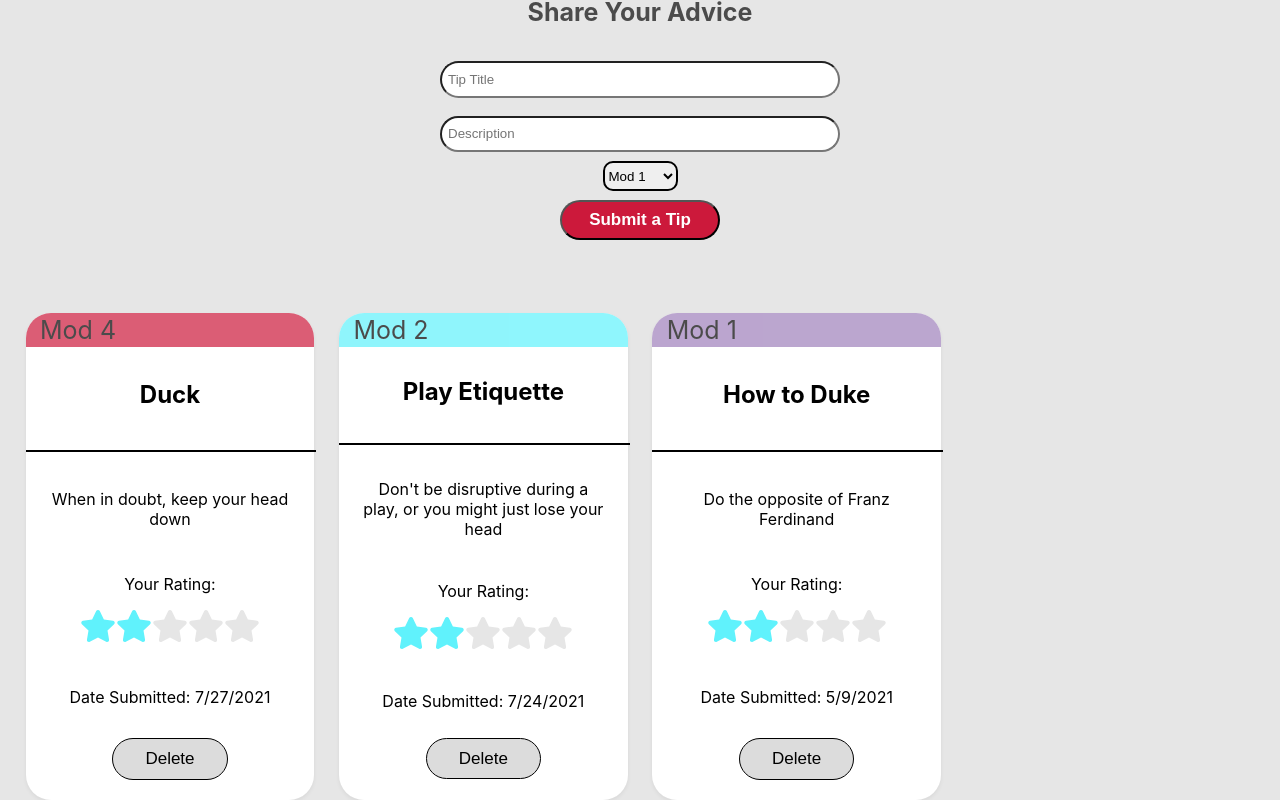
Home Page › Should be able to delete all cards and see a message to add a tip card
(page scrolled)
Click the button with class "delete" below "7/27/2021": coordinates (170, 759) top-left (112, 738), bottom-right (228, 779)
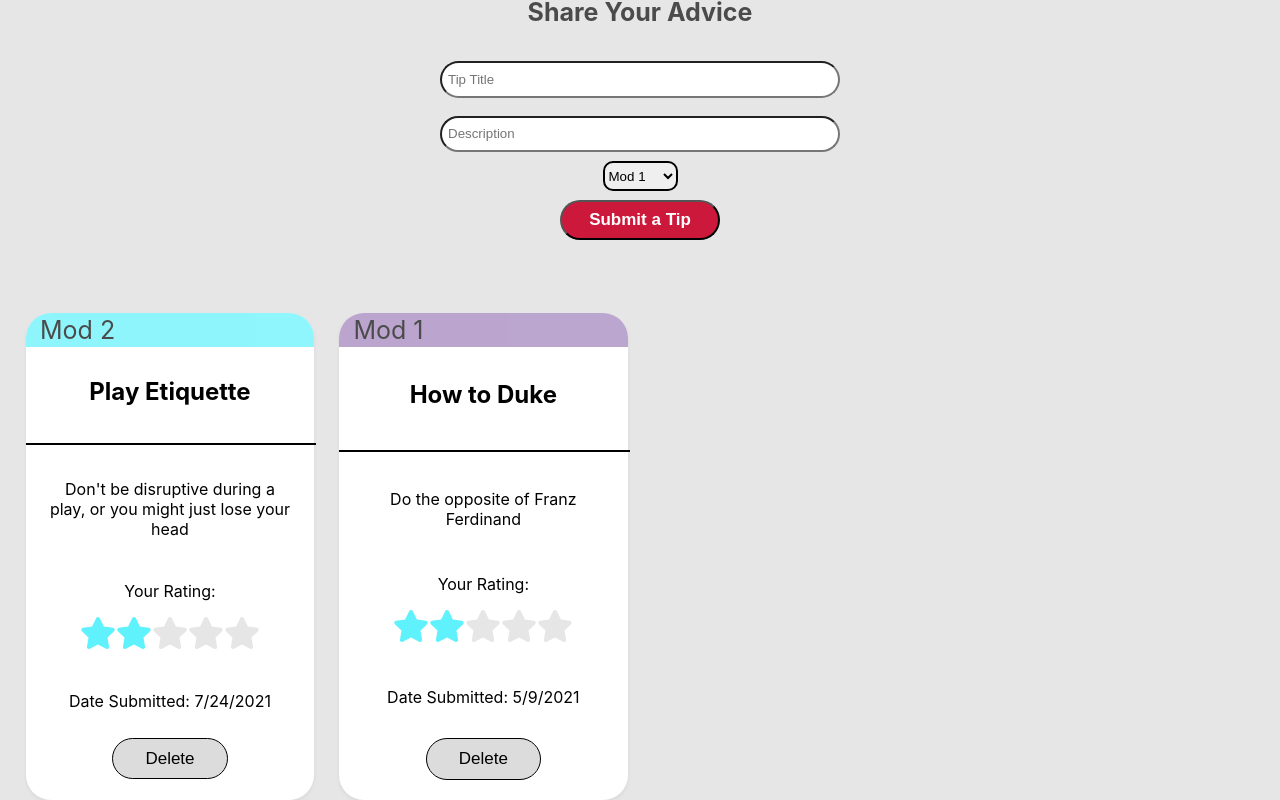
Click the button with class "delete" below "7/24/2021": coordinates (170, 759) top-left (112, 738), bottom-right (228, 779)
(page scrolled)
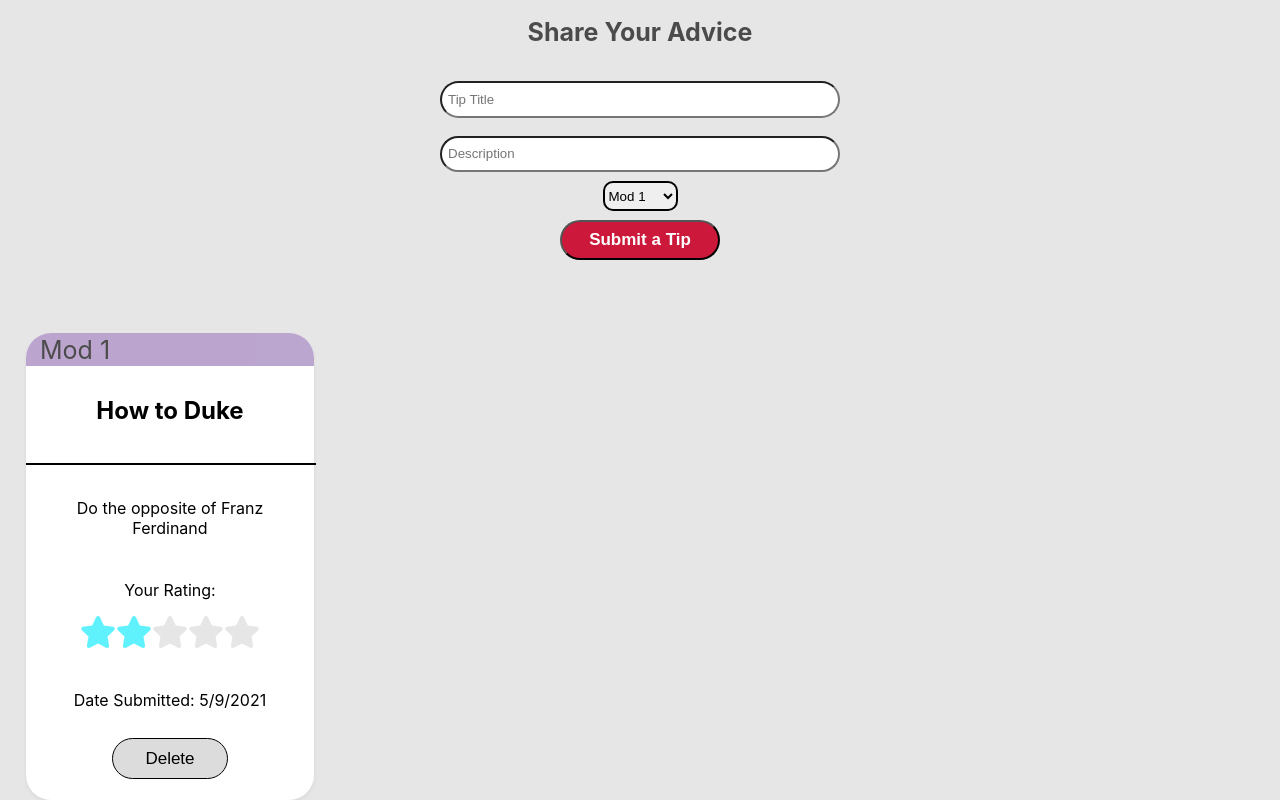
Click the button with class "delete": coordinates (170, 759) top-left (112, 738), bottom-right (228, 779)
(page scrolled)
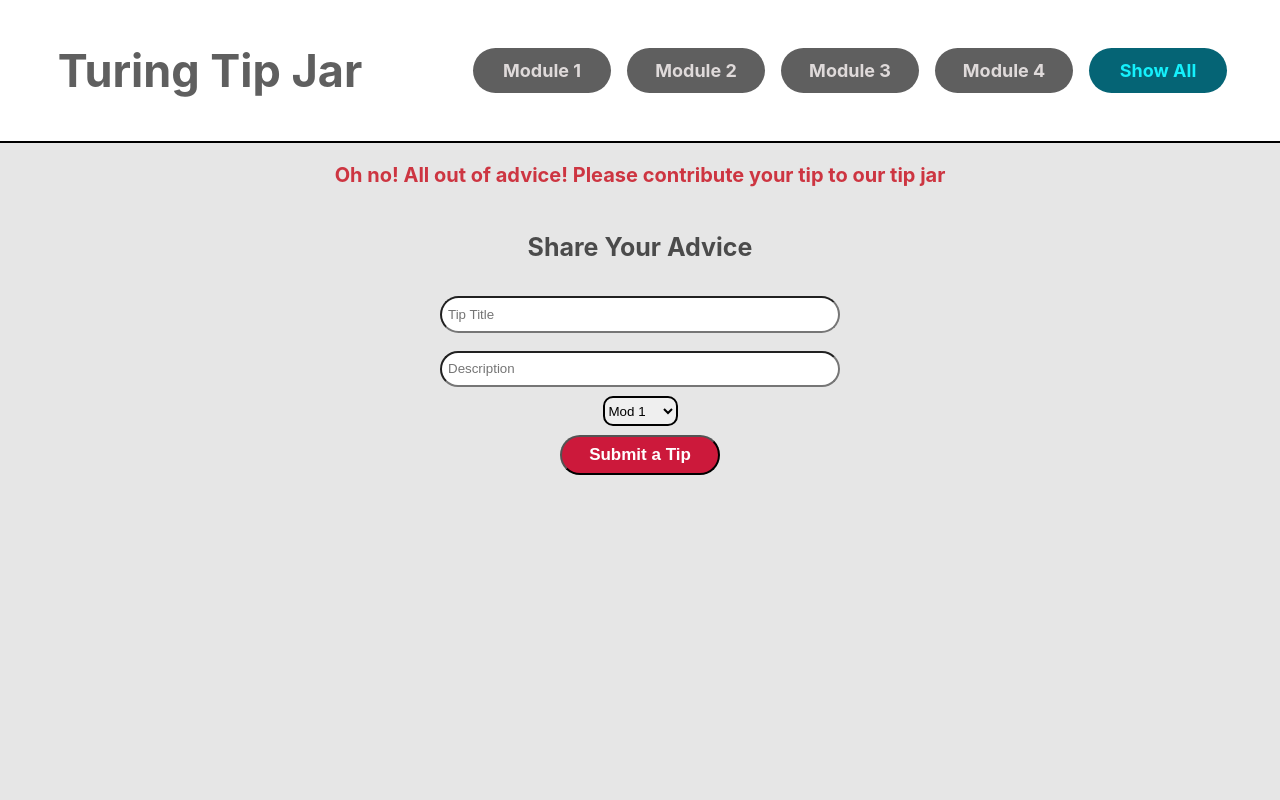
Check: the text "Oh no! All out of advice! Please contribute your tip to our tip jar" is shown, box top-left (335, 163), bottom-right (945, 187)
